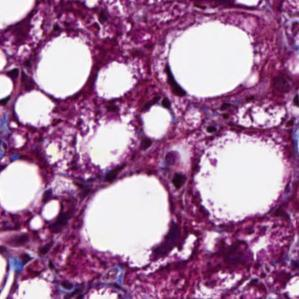inflammation: (154, 148, 198, 189)
